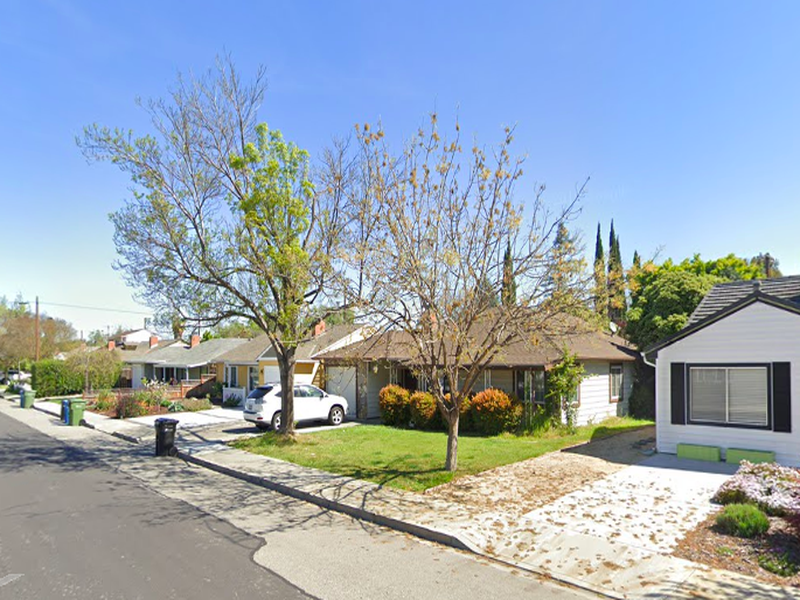tree: (71, 42, 380, 444), (320, 97, 589, 475)
